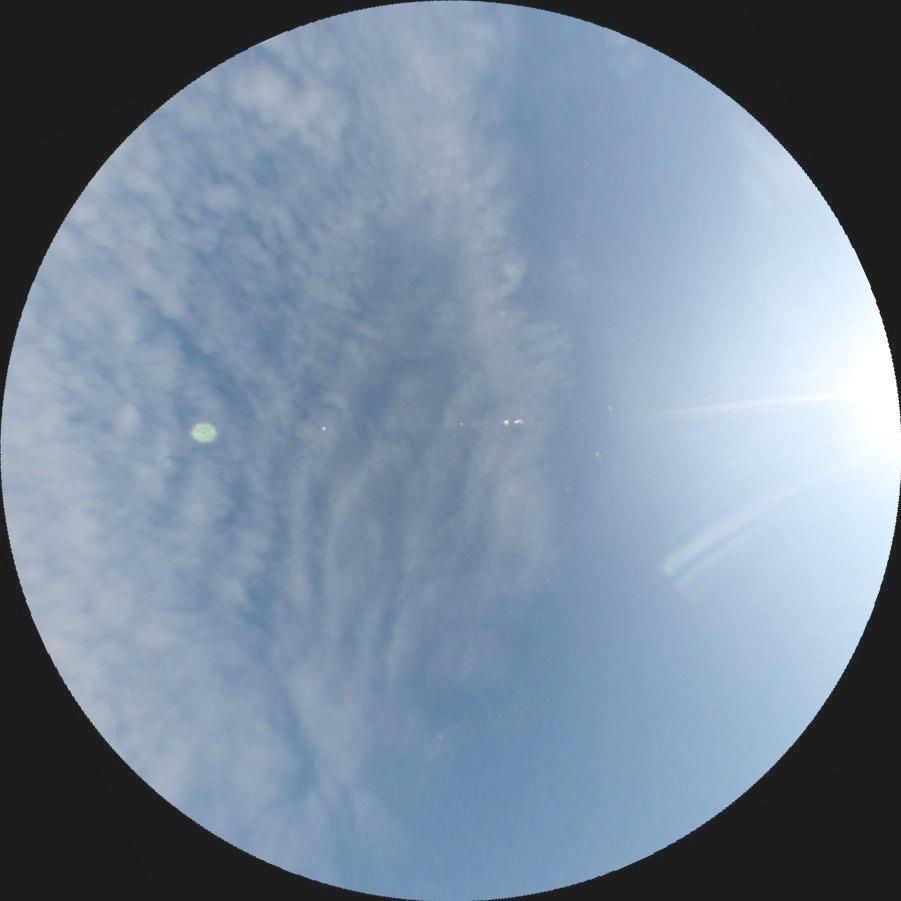parasite: (656, 475, 800, 577), (661, 388, 855, 416)
